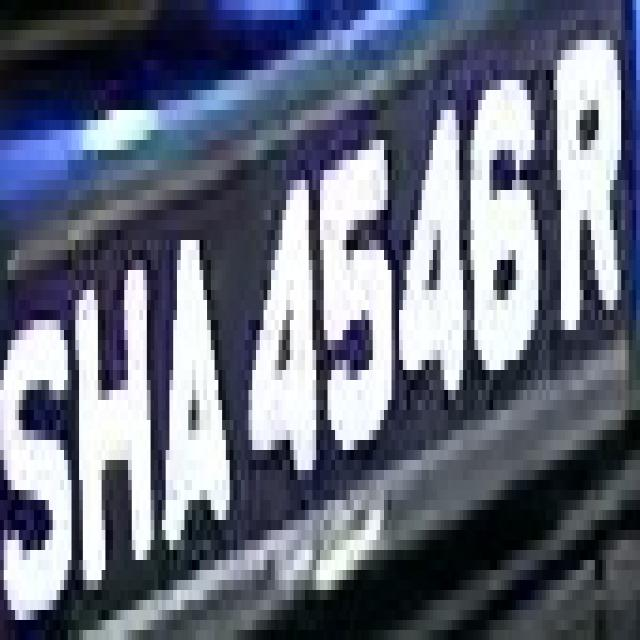4: (241, 170, 324, 500), (392, 100, 471, 440)
5: (316, 150, 399, 480)
6: (471, 60, 542, 400)
A: (146, 210, 230, 570)
H: (64, 230, 162, 600)
R: (542, 20, 633, 380)
S: (11, 260, 76, 620)
